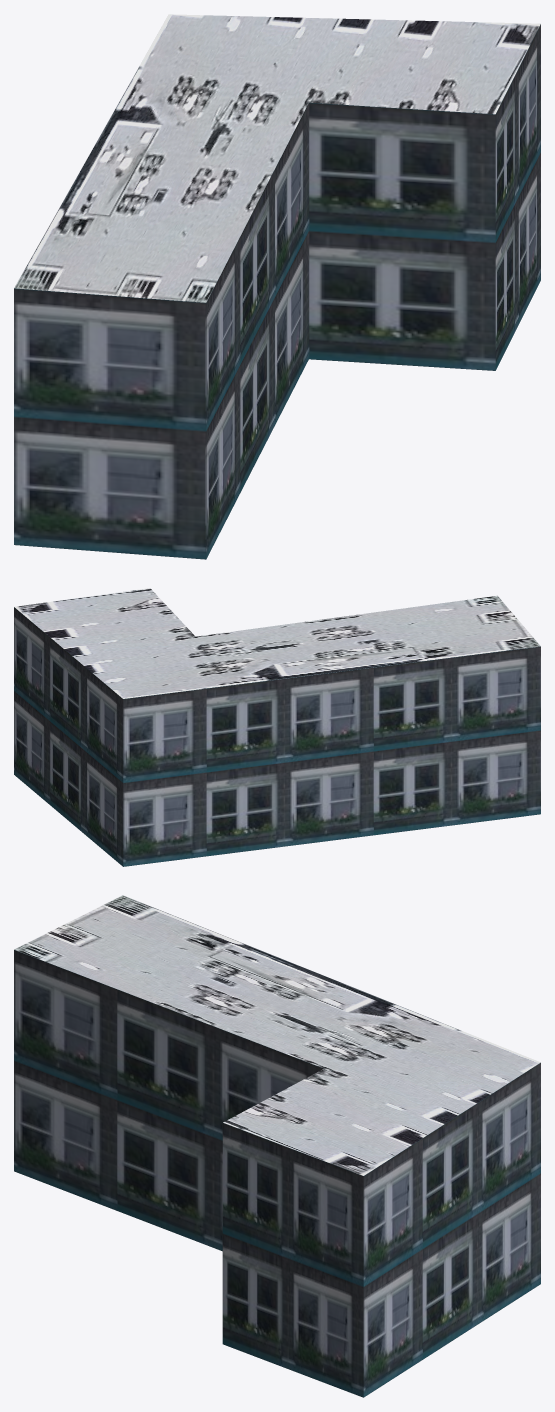
File: ResTex__4997.fbx
3 views of the same model, one above another, from view 1: azimuth 30°, elevation 25°; view 2: azimuth 150°, elevation 25°; view 3: azimuth 270°, elevation 25° (orthographic). The views are drawn at different scales.
Visible parts, largest first — view 1: CityEngineMaterial_11_m, CityEngineMaterial_8_m; view 2: CityEngineMaterial_11_m, CityEngineMaterial_8_m; view 3: CityEngineMaterial_11_m, CityEngineMaterial_8_m.
Part boxes in pixels (x1=…): CityEngineMaterial_11_m: x1=14, y1=24, x2=540, y2=559; CityEngineMaterial_8_m: x1=14, y1=14, x2=540, y2=302; CityEngineMaterial_11_m: x1=14, y1=607, x2=540, y2=866; CityEngineMaterial_8_m: x1=14, y1=588, x2=540, y2=698; CityEngineMaterial_11_m: x1=14, y1=950, x2=540, y2=1397; CityEngineMaterial_8_m: x1=14, y1=895, x2=540, y2=1175.
Bounding box in the file's own units: 16.3 × 6 × 12.93.
2 materials, 2 textured.
